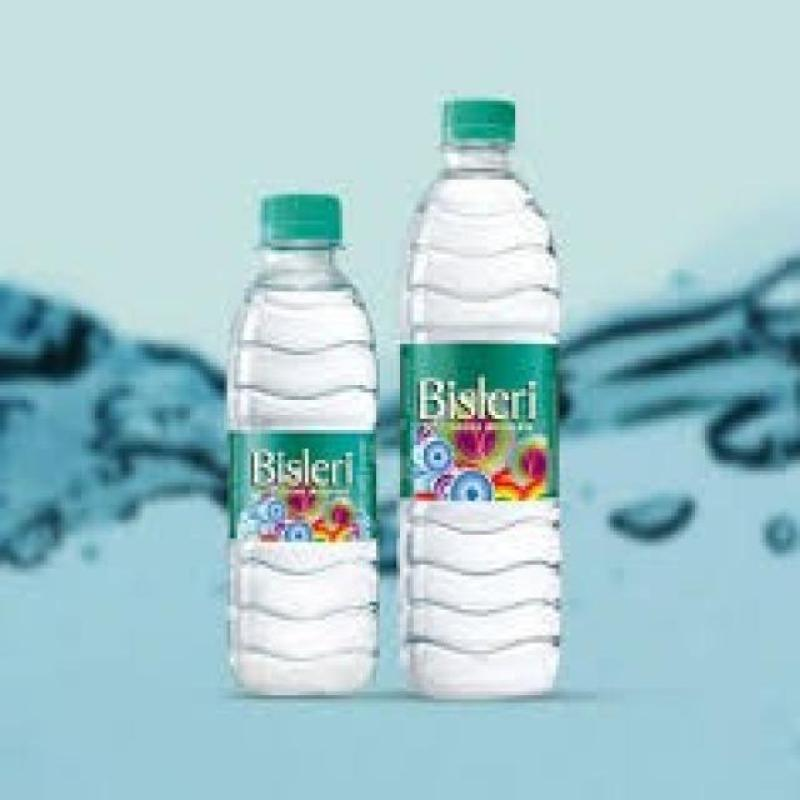botella: (402, 99, 564, 705), (227, 199, 383, 700)
